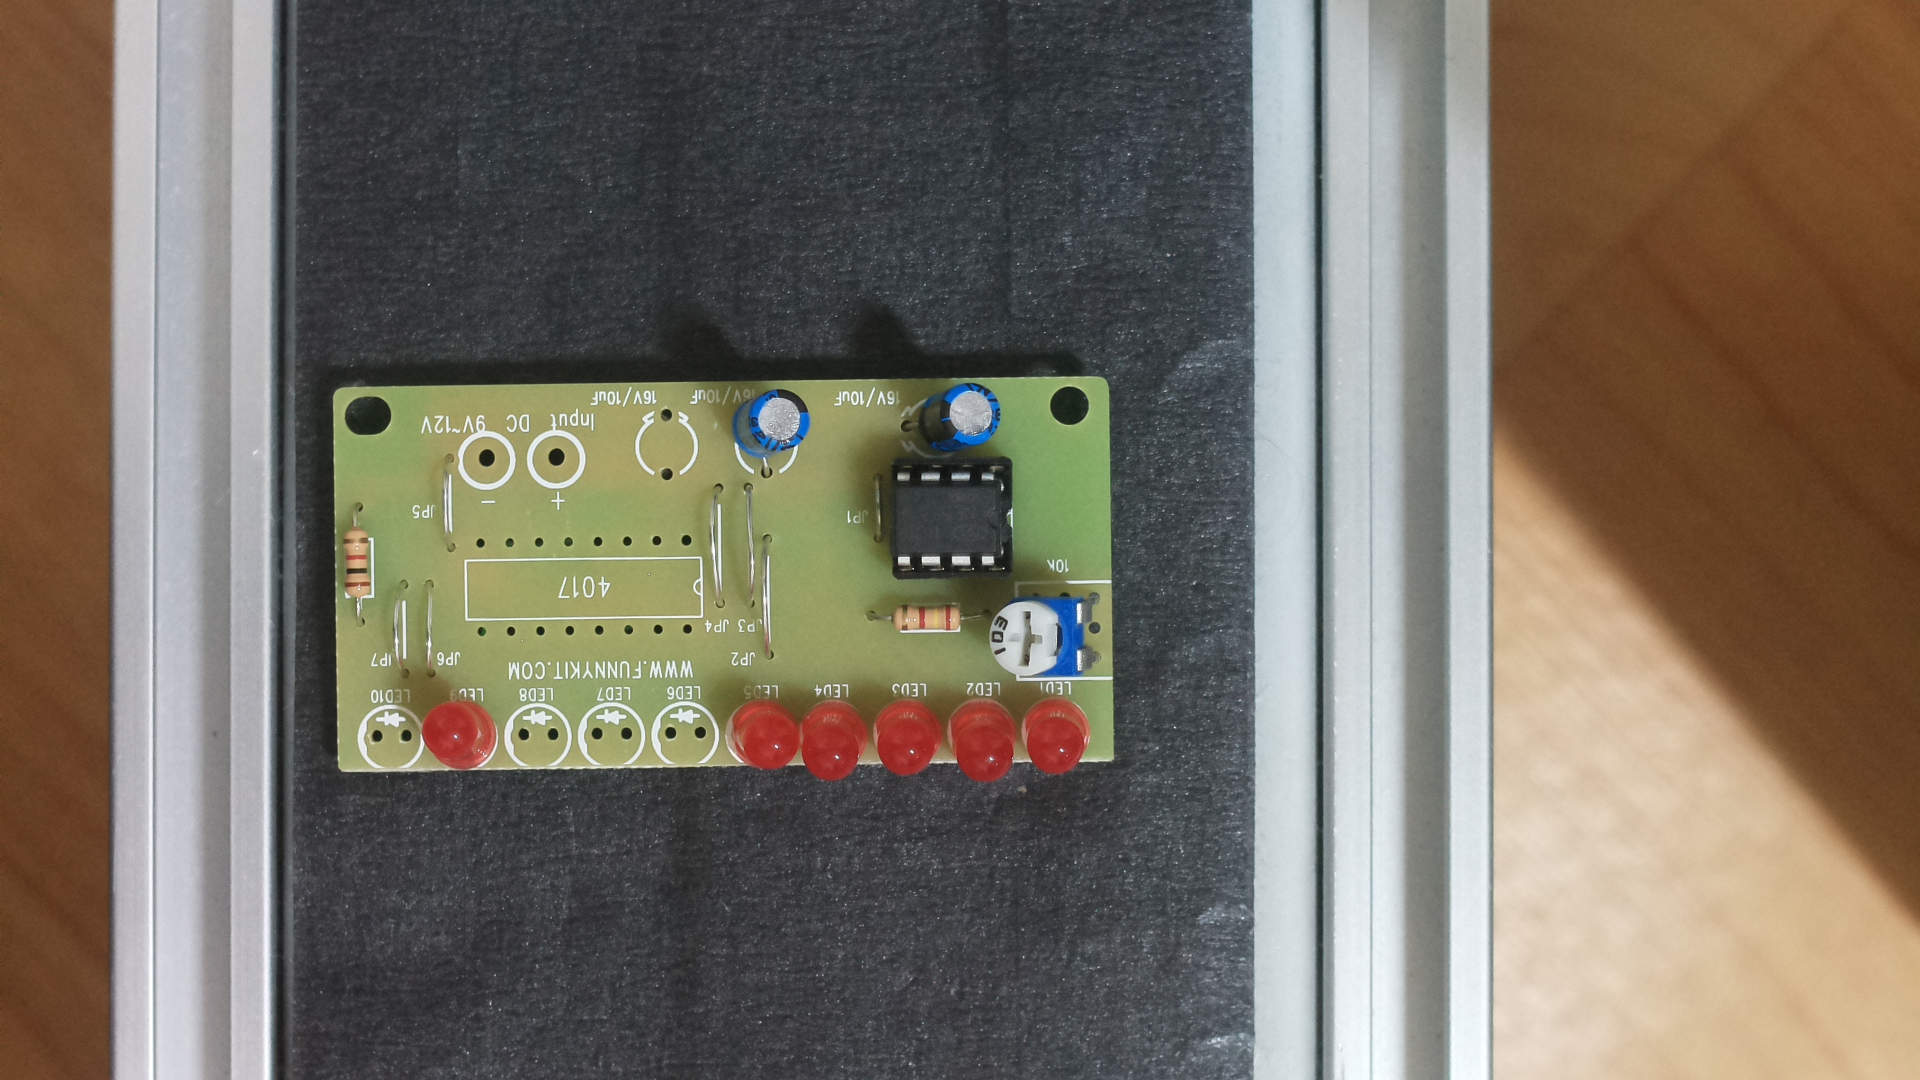B_Missing_part: (316, 367, 1127, 800)
